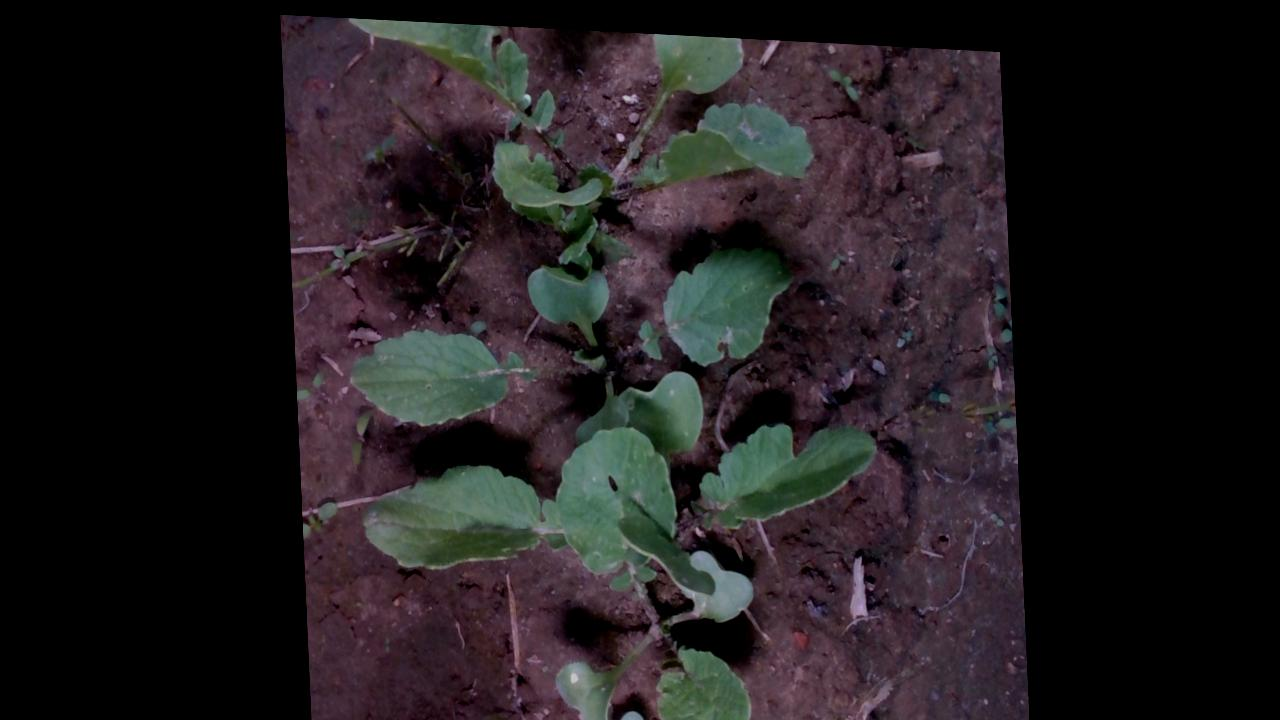weed: (345, 403, 372, 467), (827, 60, 859, 94), (922, 381, 949, 396)
